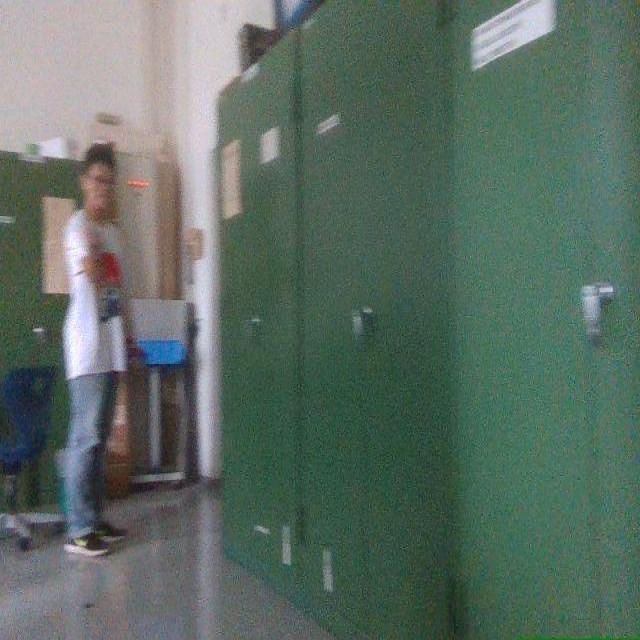humans: (63, 144, 135, 555)
